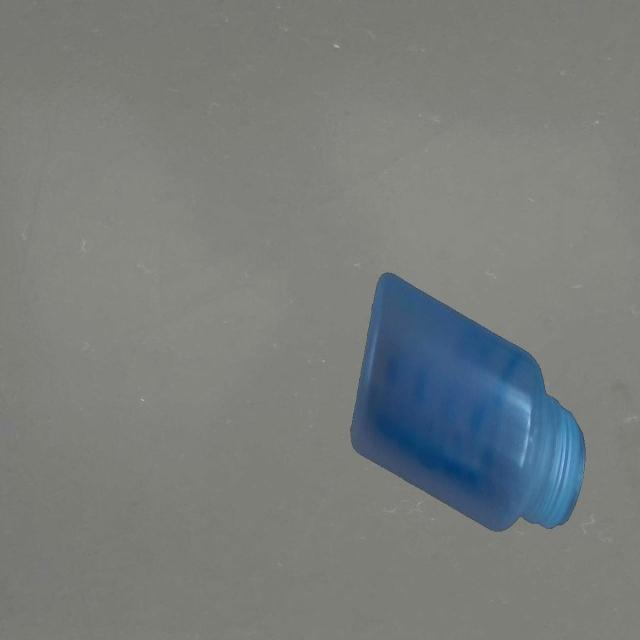bottle: (348, 269, 588, 535)
